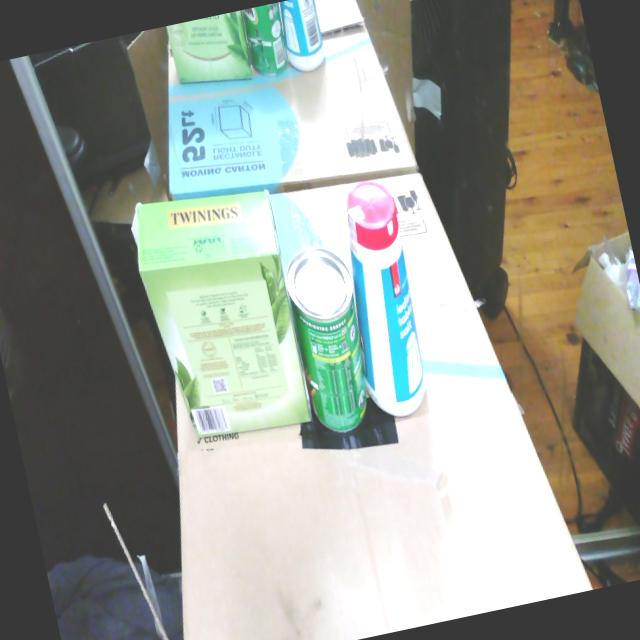nestle_milo_tin: (287, 247, 367, 433)
twinings_greentea_box: (137, 189, 312, 437)
woolworths_salt_bottle: (346, 181, 426, 417)
